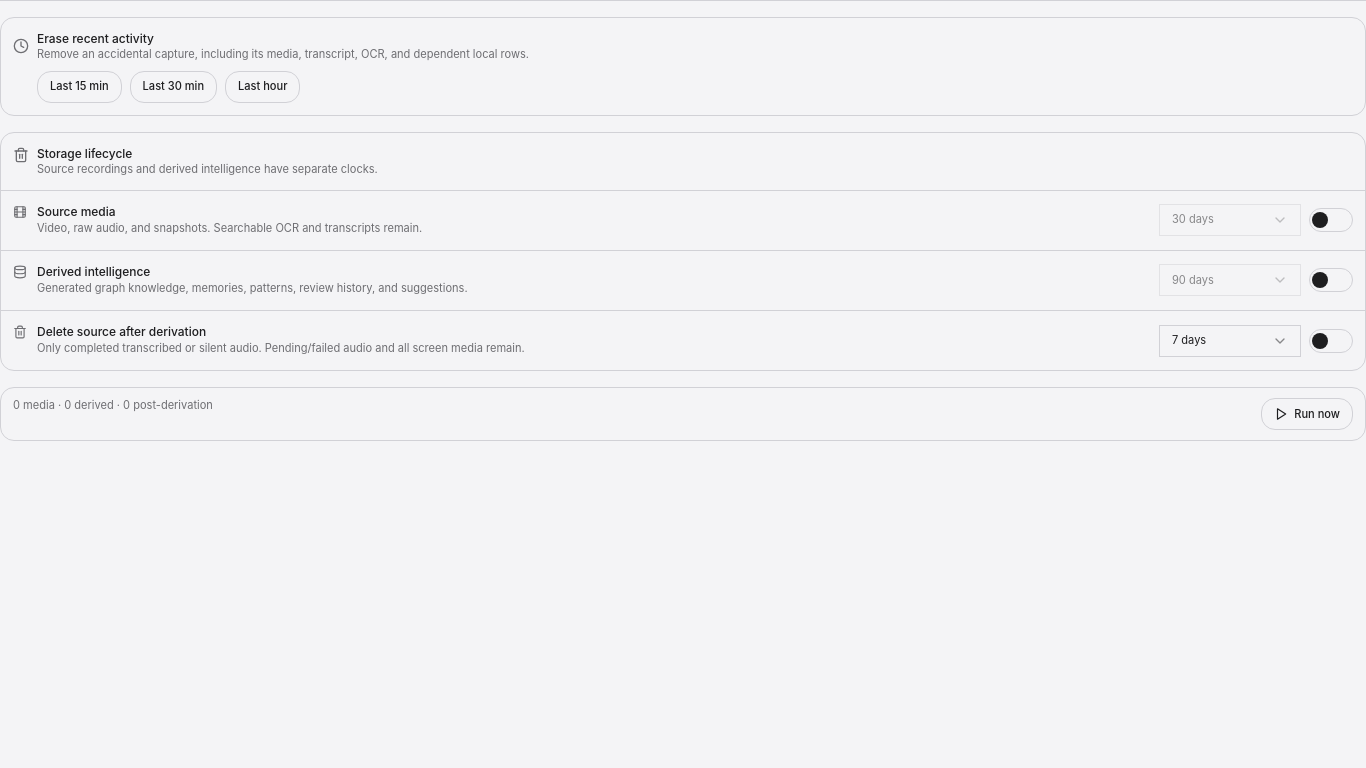
Test case: RetentionSettings › discloses the exact post-derivation scope before enabling it
Later steps or results of the test are not shown.
Expected: the text "Storage lifecycle" is shown, [37,146,132,161]
What coordinates should you click on to do the following:
click the switch named "Enable delete source after derivation cleanup"
I would click on:
 (1331, 341)
Its box is [1309,329,1353,353].
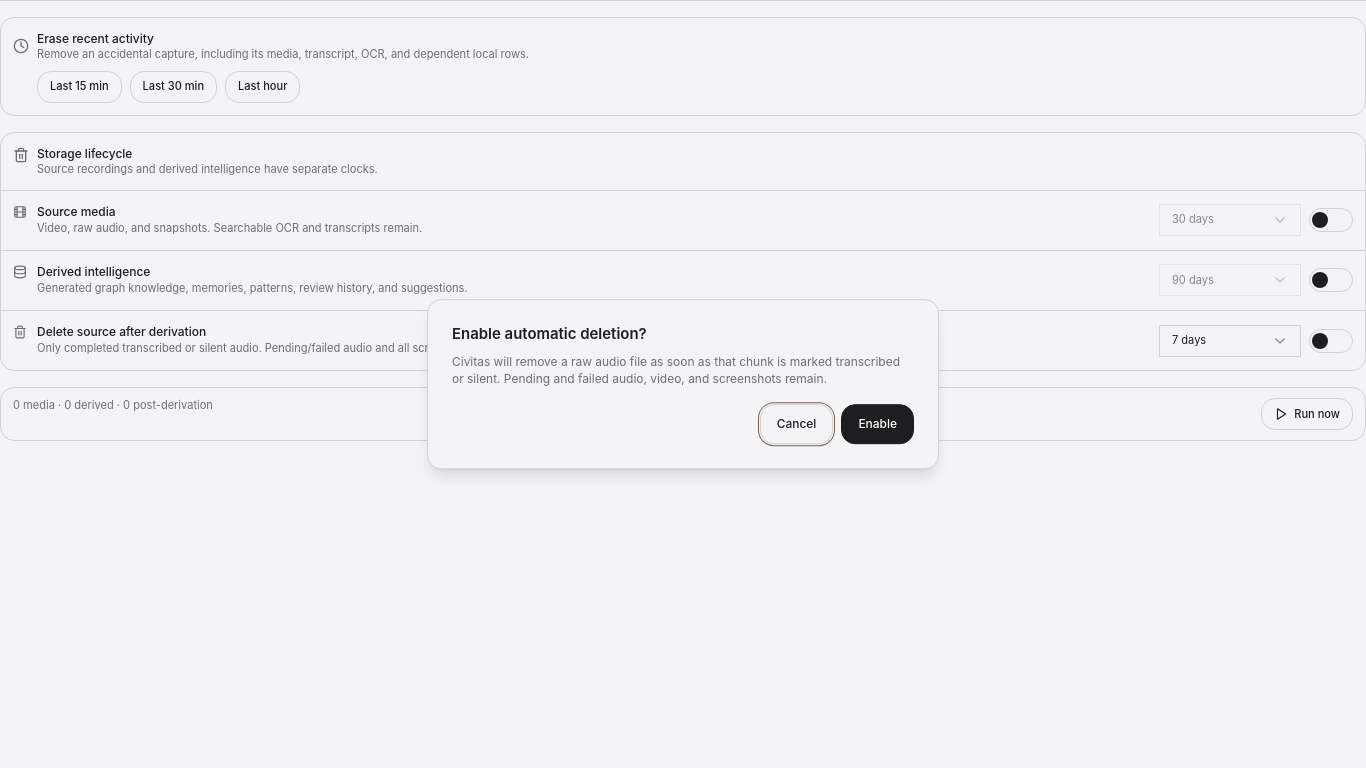
Expected: the text "Pending and failed audio, video, and screenshots remain" is shown, [452,354,900,386]
